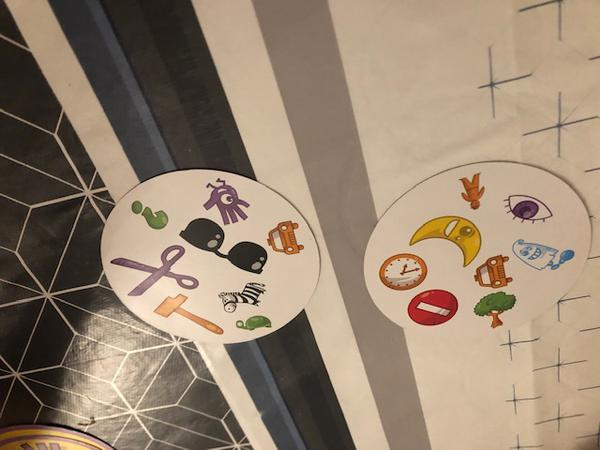arbre: (470, 287, 517, 332)
bonhomme: (455, 170, 491, 213)
ciseau: (112, 242, 203, 296)
dooble: (198, 176, 253, 224)
fantome: (509, 237, 577, 276)
horloge: (375, 250, 432, 292)
lune: (405, 212, 481, 266)
lunette: (178, 214, 270, 273)
marteau: (151, 292, 225, 336)
oeuil: (499, 190, 556, 225)
point_interrogation: (127, 199, 173, 233)
sens_interdit: (404, 288, 458, 326)
tortue: (232, 312, 273, 332)
voiture: (468, 249, 517, 290), (265, 217, 304, 257)
zebre: (213, 277, 274, 316)
